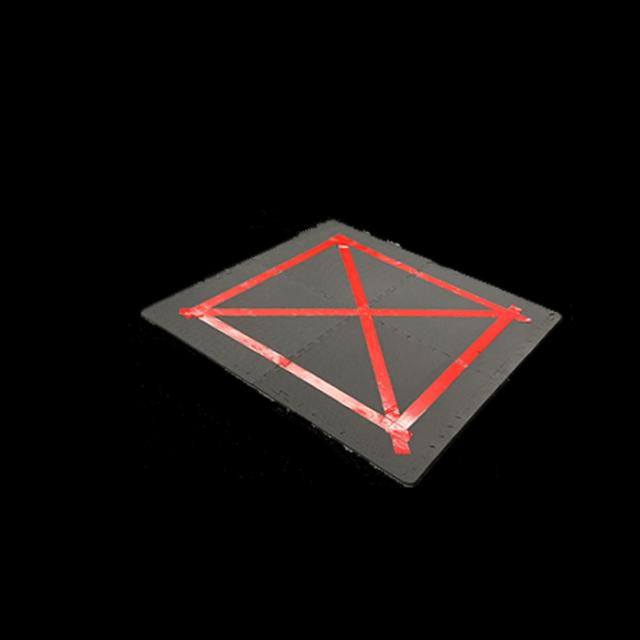landingPads: (125, 199, 571, 490)
